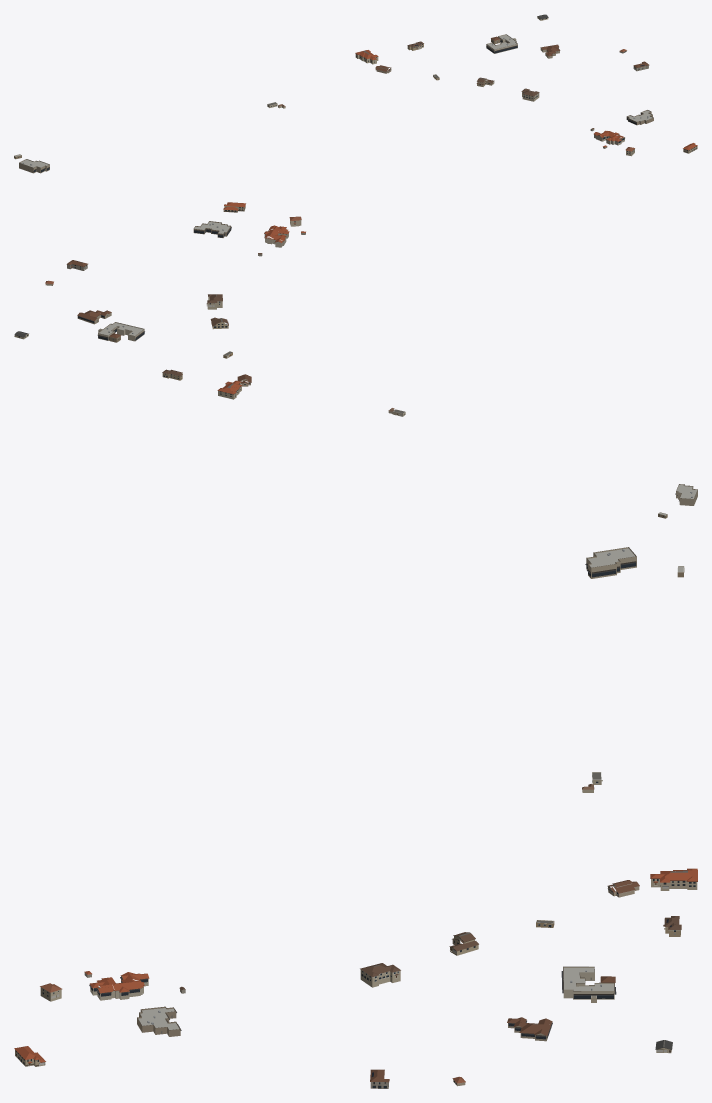
3 views of the same model, one above another, from view 1: azimuth 30°, elevation 25°; view 2: azimuth 150°, elevation 25°; view 3: azimuth 270°, elevation 25° (orthographic). The views are drawn at different scales.
Visible parts, largest first — view 1: buildings_r4_c0_lod0; view 2: buildings_r4_c0_lod0; view 3: buildings_r4_c0_lod0.
Boxes of the visible parts, x1=… form: buildings_r4_c0_lod0: x1=14, y1=14, x2=697, y2=173; buildings_r4_c0_lod0: x1=14, y1=202, x2=697, y2=518; buildings_r4_c0_lod0: x1=14, y1=547, x2=697, y2=1088.
Size of the model in its own units: 1026 by 38.04 by 539.
